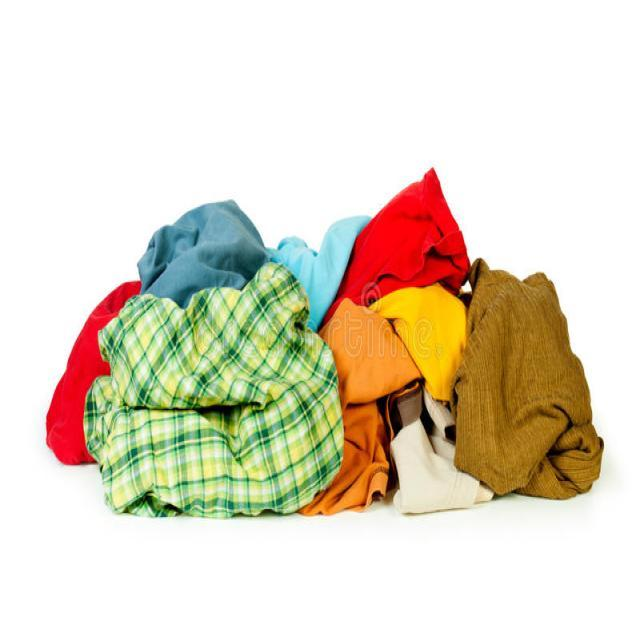clothes: (134, 275, 516, 484)
